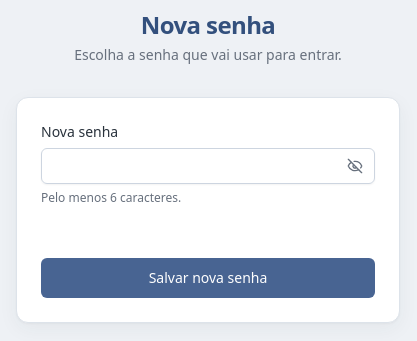
Scenario: NovaSenha › recusa senha curta sem chamar o Supabase
In the password field labelled "Nova senha": coordinates (208, 166) [41, 148, 375, 184], type "123"
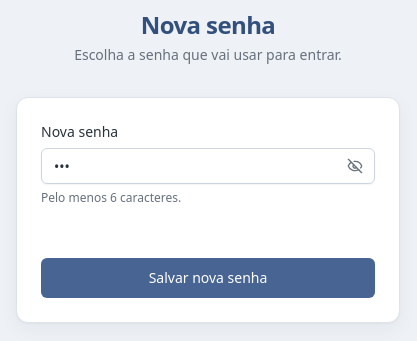
Click the button "Salvar nova senha": coordinates (208, 278) [41, 258, 375, 298]
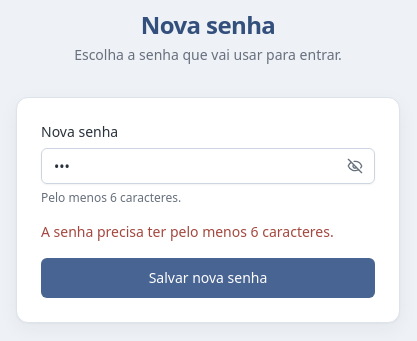
Check: the message shows "6 caracteres", box [41, 222, 334, 241]
